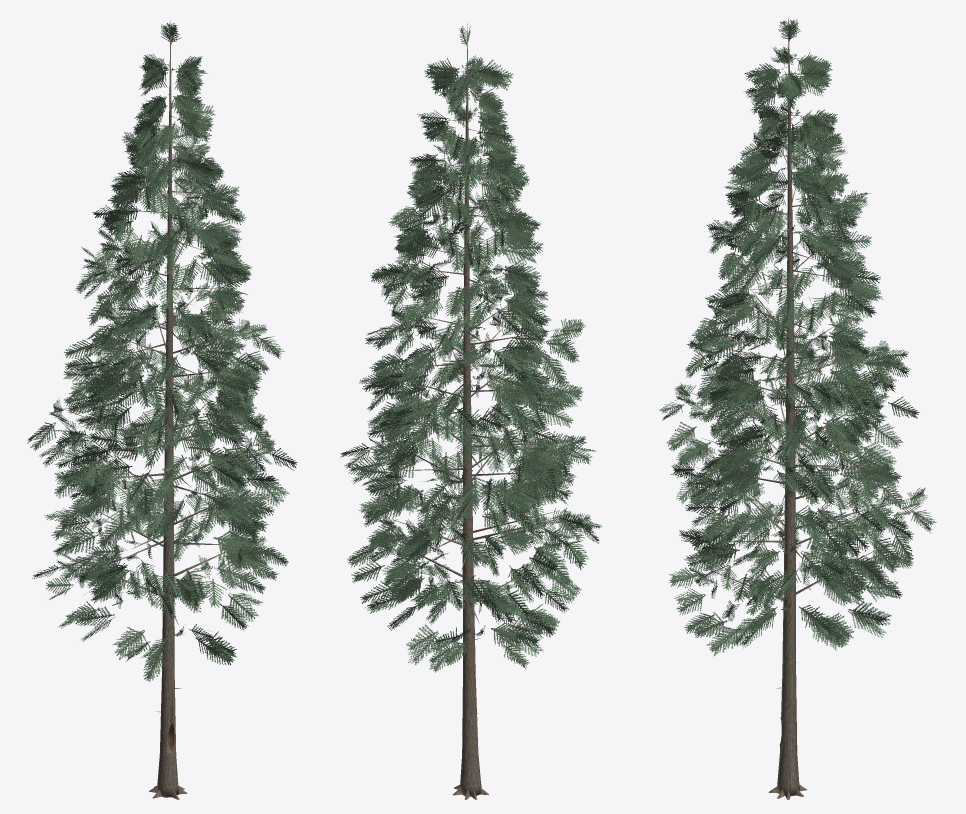
File: SS_Defect_Cavity_Young_02_LOD2.fbx
3 renders of one model, left to right at view 1: azimuth 30°, elevation 25°; view 2: azimuth 150°, elevation 25°; view 3: azimuth 270°, elevation 25°, orthographic.
Parts seen in each view (by area): view 1: SS_Defect_Cavity_Young_02_LOD2_Foliage, SS_Defect_Cavity_Young_02_LOD2_Trunk, SS_Defect_Cavity_Young_02_LOD2_Branches; view 2: SS_Defect_Cavity_Young_02_LOD2_Foliage, SS_Defect_Cavity_Young_02_LOD2_Trunk, SS_Defect_Cavity_Young_02_LOD2_Branches; view 3: SS_Defect_Cavity_Young_02_LOD2_Foliage, SS_Defect_Cavity_Young_02_LOD2_Trunk, SS_Defect_Cavity_Young_02_LOD2_Branches.
Boxes of the visible parts, box(x1,y1,x2,y2) form: SS_Defect_Cavity_Young_02_LOD2_Foliage: box(27, 23, 297, 681); SS_Defect_Cavity_Young_02_LOD2_Trunk: box(149, 21, 187, 799); SS_Defect_Cavity_Young_02_LOD2_Branches: box(58, 63, 259, 712); SS_Defect_Cavity_Young_02_LOD2_Foliage: box(340, 26, 602, 672); SS_Defect_Cavity_Young_02_LOD2_Trunk: box(452, 23, 488, 799); SS_Defect_Cavity_Young_02_LOD2_Branches: box(378, 67, 581, 713); SS_Defect_Cavity_Young_02_LOD2_Foliage: box(659, 19, 936, 656); SS_Defect_Cavity_Young_02_LOD2_Trunk: box(768, 17, 806, 799); SS_Defect_Cavity_Young_02_LOD2_Branches: box(688, 57, 911, 688).
Size of the model in its own units: 376 by 1100 by 393.
3 materials, 3 textured.
